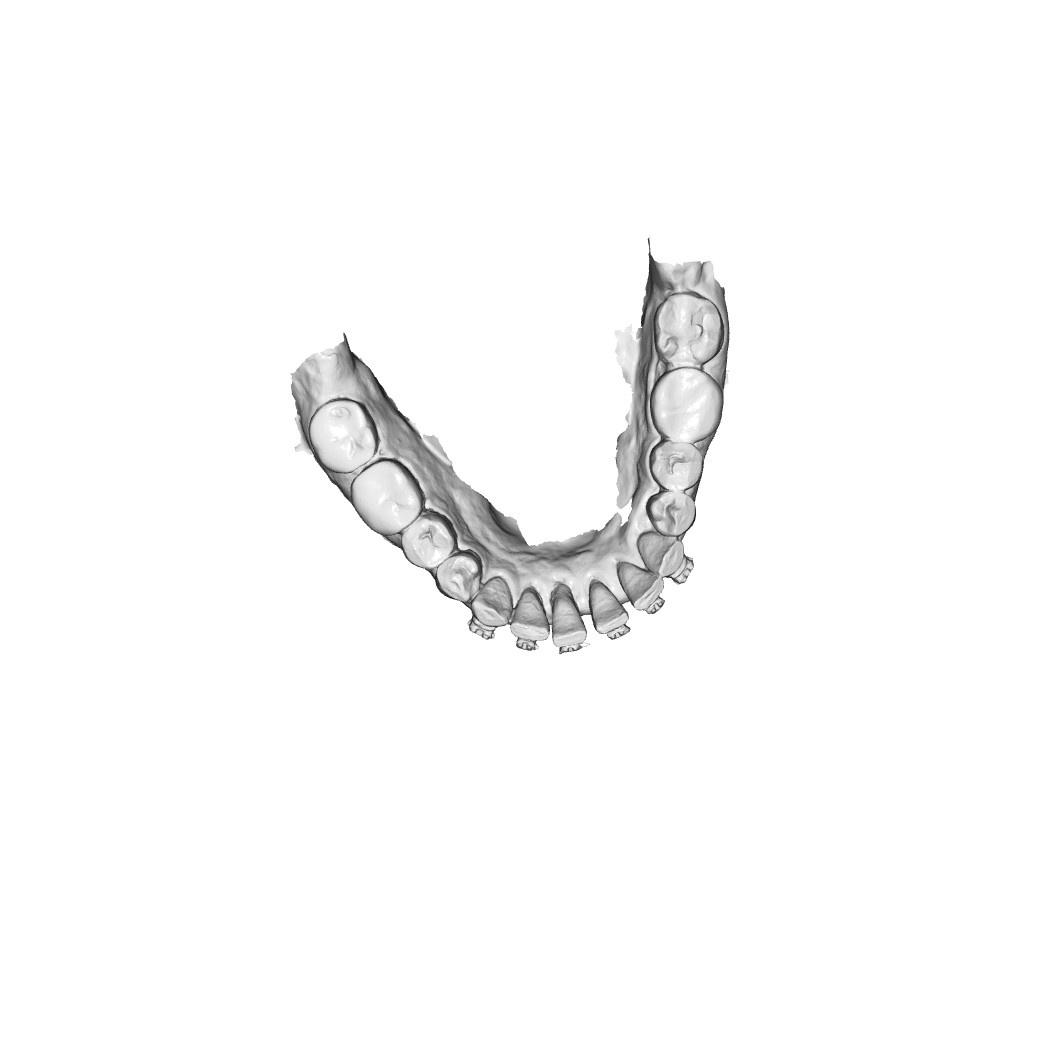canine: (636, 530, 688, 581), (471, 578, 513, 631)
incisor: (613, 559, 667, 615), (548, 588, 591, 650), (591, 579, 628, 638), (510, 590, 550, 644)
molar: (349, 458, 425, 539), (308, 394, 380, 475), (649, 368, 720, 445), (654, 291, 724, 367)
premolar: (399, 511, 456, 572), (431, 546, 485, 604), (648, 442, 703, 492), (646, 490, 697, 537)
